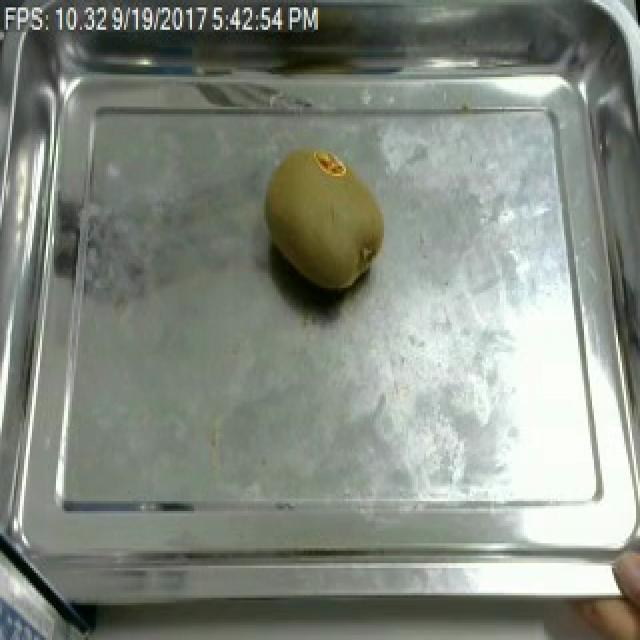Fruit: (258, 139, 392, 298)
